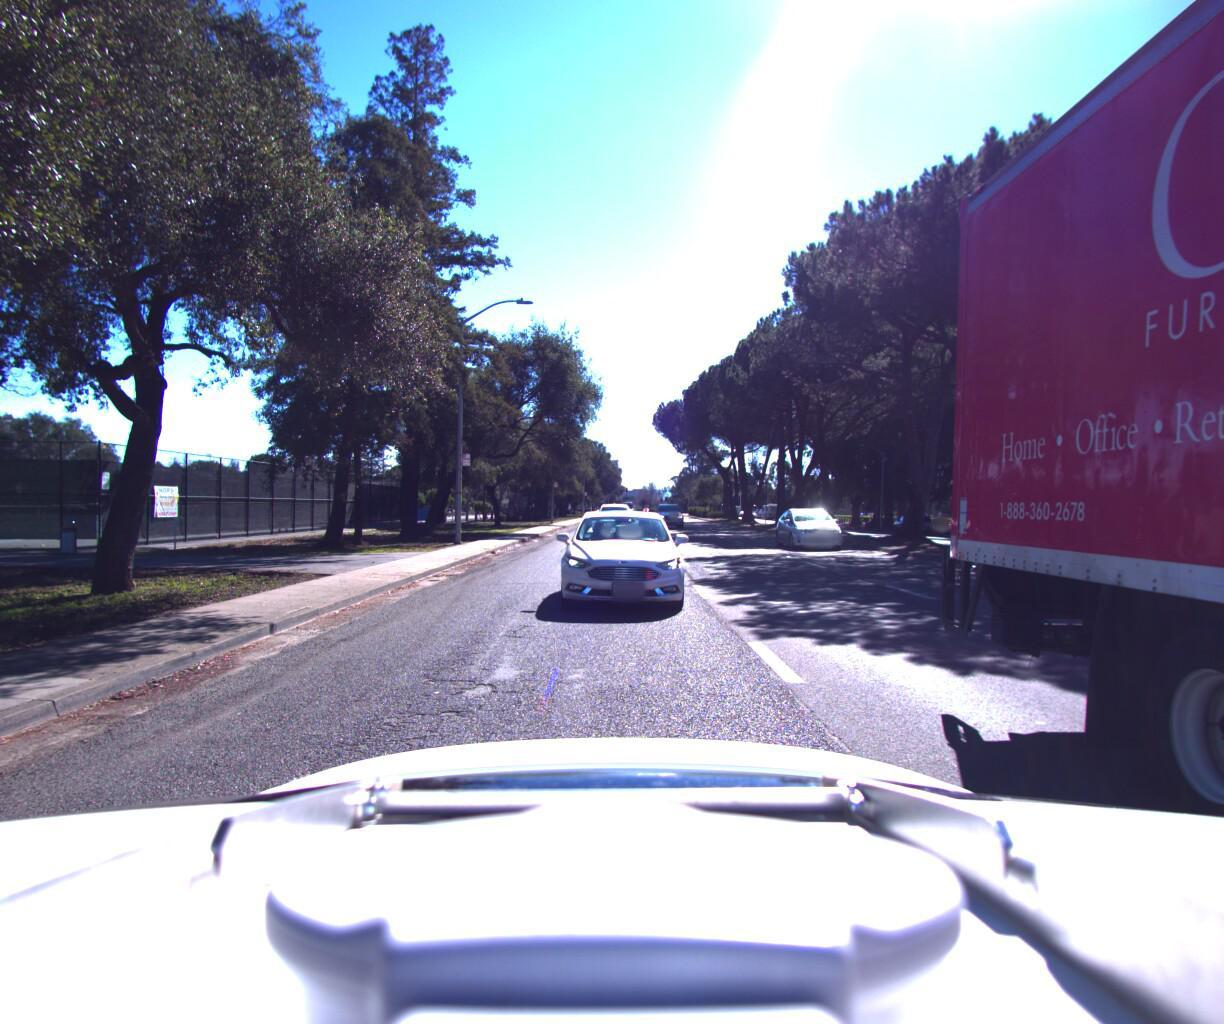car: (547, 501, 698, 628), (777, 496, 864, 551), (594, 498, 637, 537), (895, 514, 939, 535), (654, 498, 687, 526)
